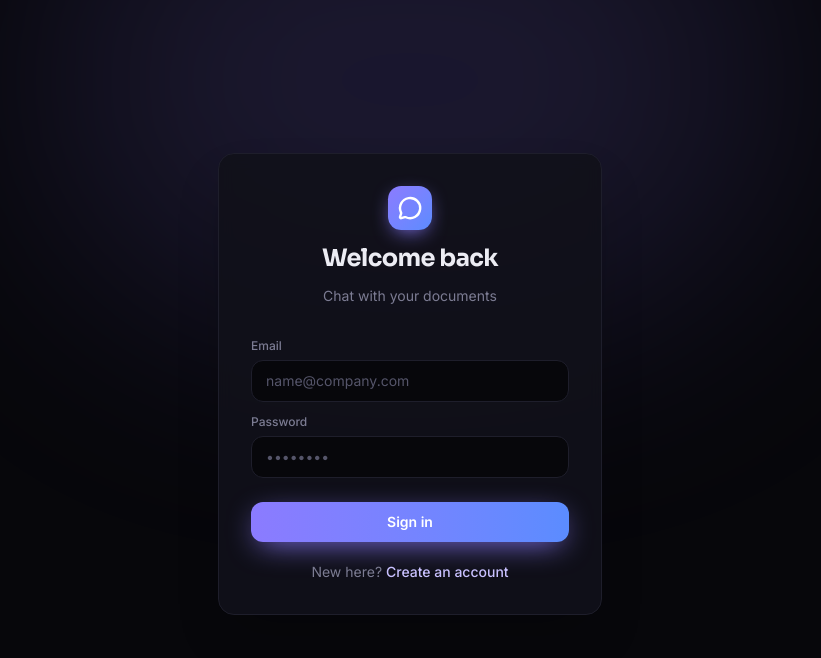
<App> › shows the server's message when sign-in fails
In the field with placeholder "name@company.com": coordinates (410, 381) [251, 360, 569, 402], type "sam@example.com"
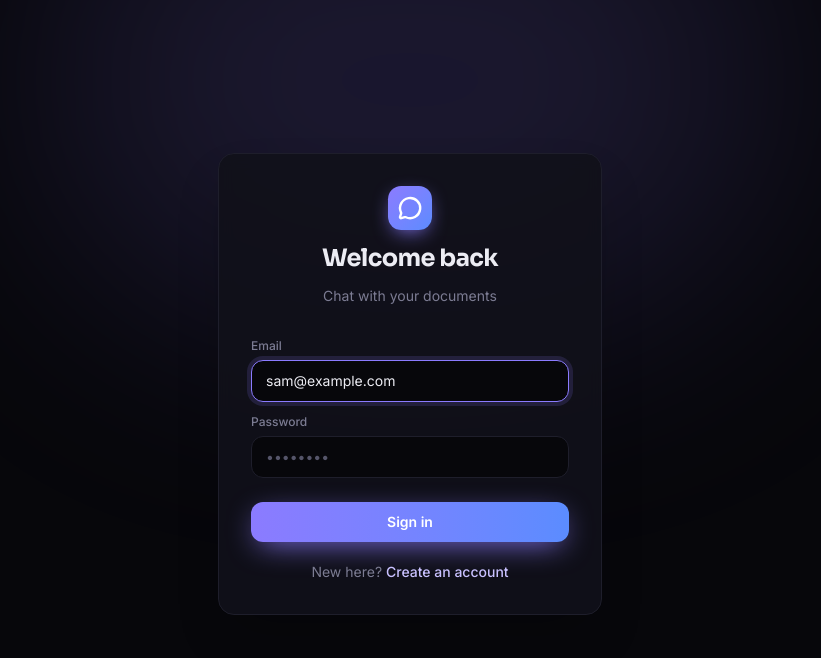
In the password field with placeholder "••••••••": coordinates (410, 457) [251, 436, 569, 478], type "nope"
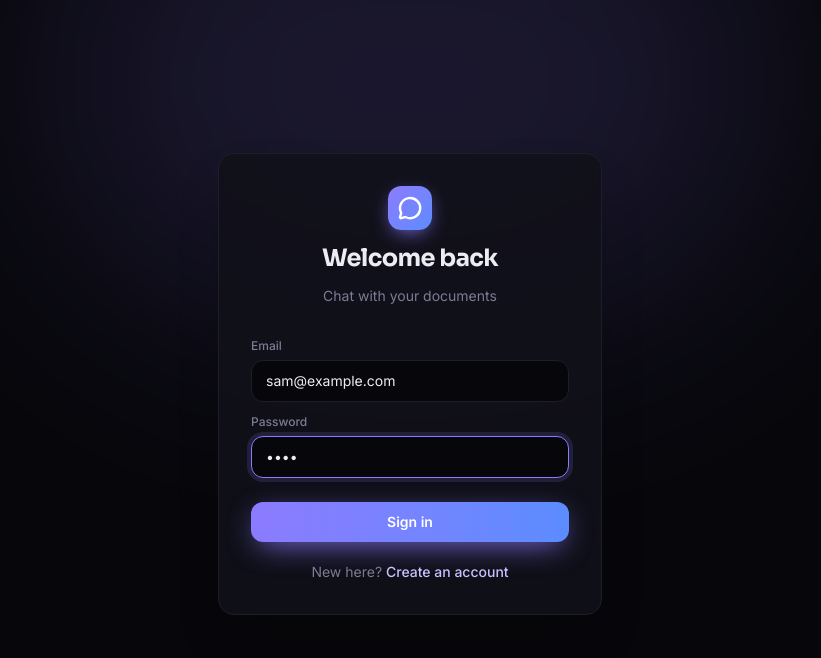
Click the button "Sign in": coordinates (410, 522) [251, 502, 569, 542]
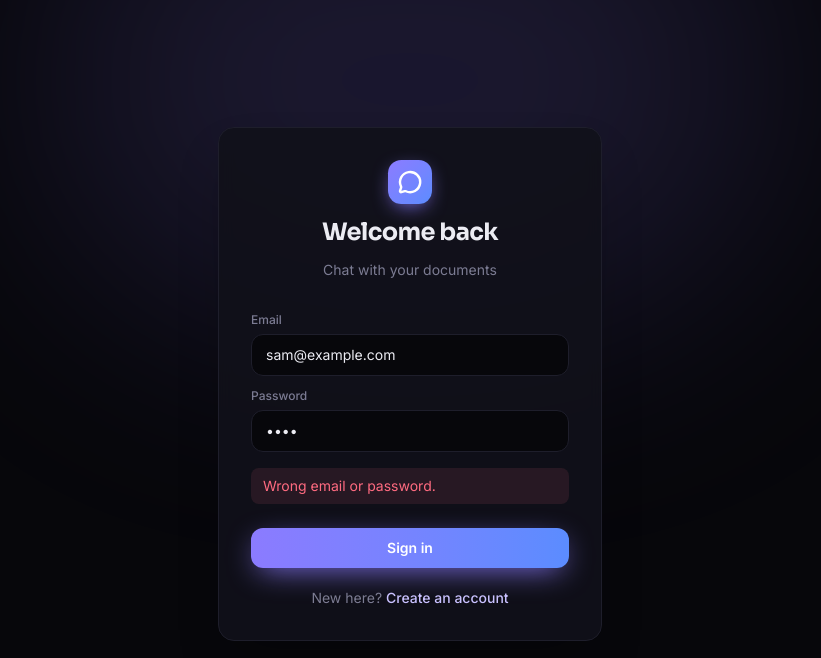
Expected: the message reads "Wrong email or password.", [263, 477, 436, 494]
